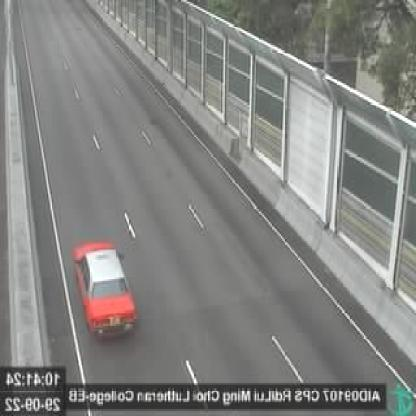Car: (70, 236, 144, 343)
